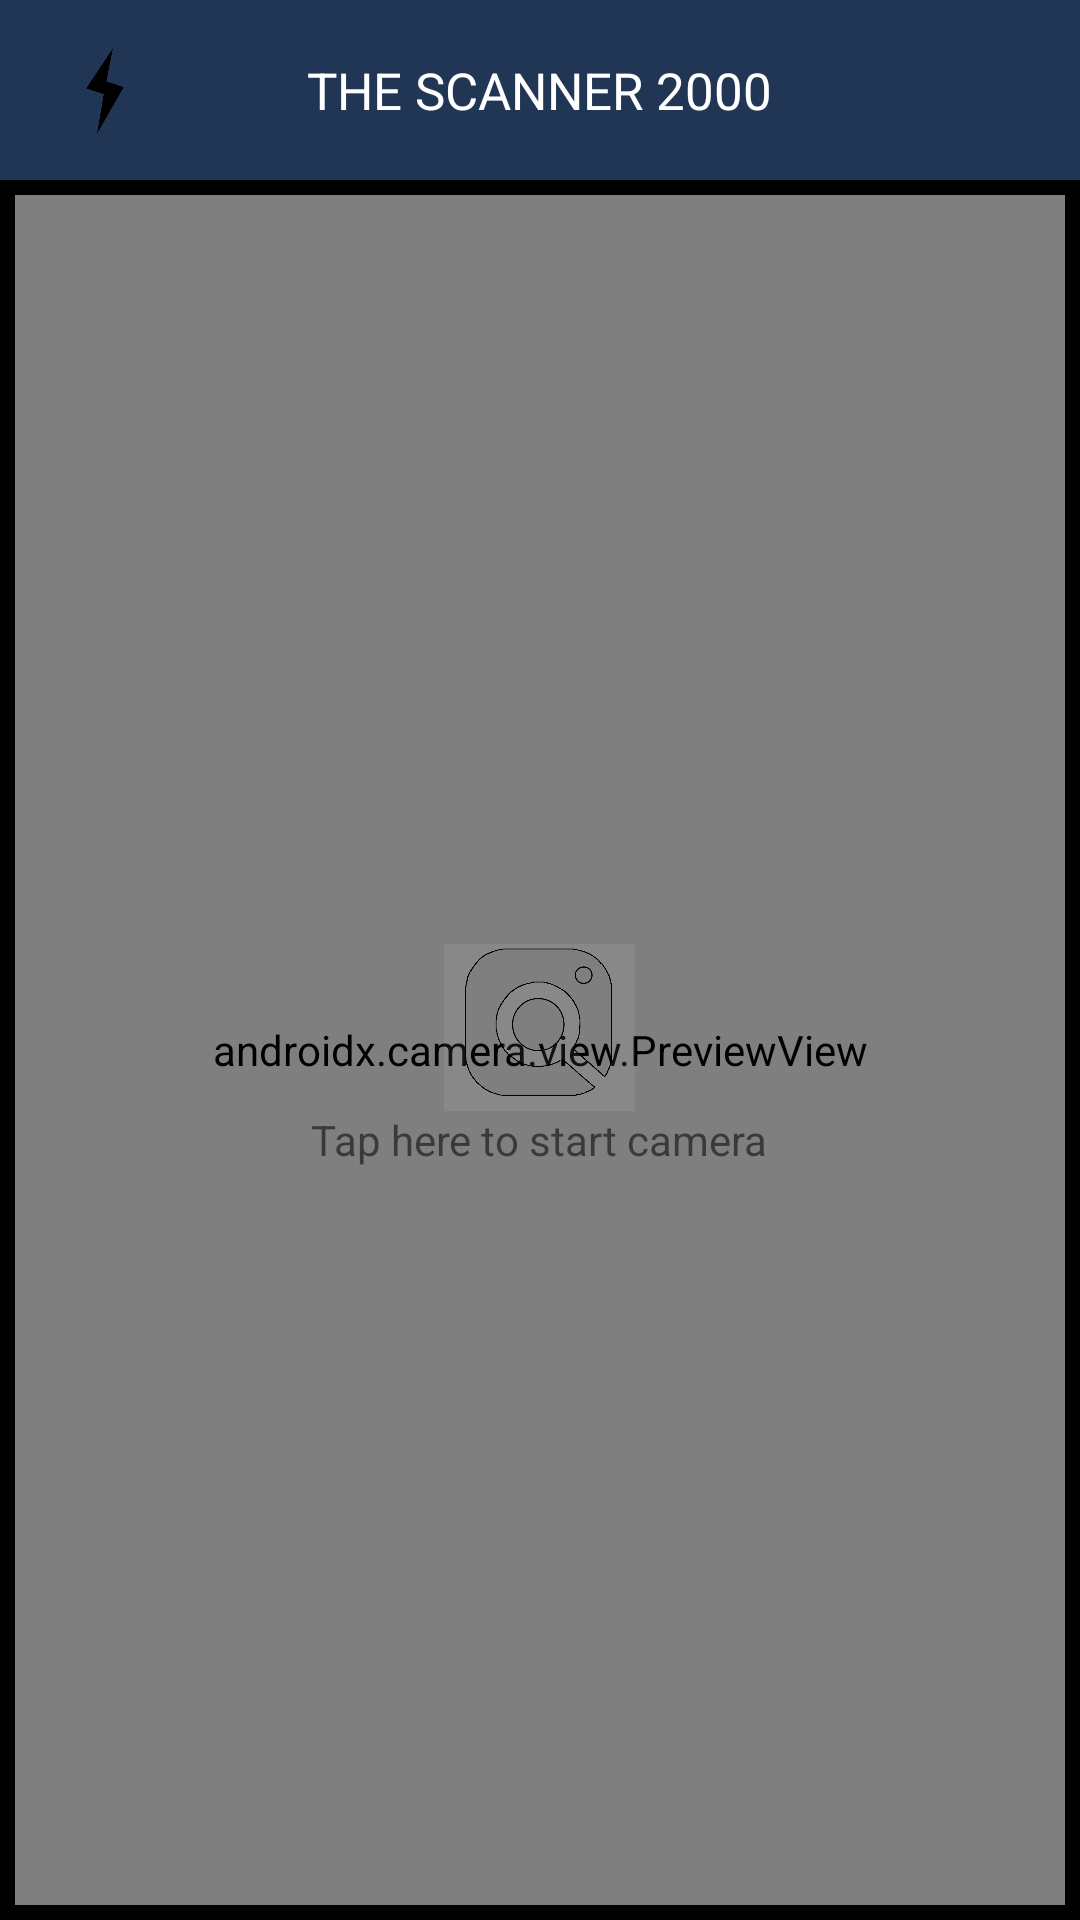

Named icons in this screenshot (1080x1920) and their bounding boxes, (x1, y1, x2, y2):
flash: (86, 49, 124, 133)
